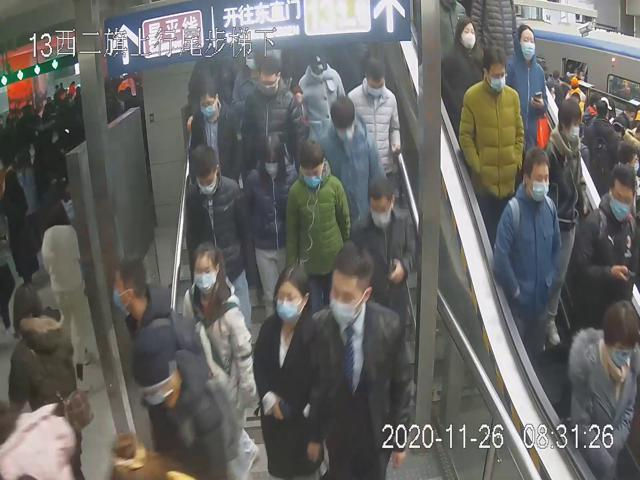person: (311, 242, 415, 480), (181, 238, 262, 473), (251, 264, 327, 478), (490, 147, 565, 349), (181, 141, 256, 335), (458, 44, 527, 228), (349, 173, 418, 337), (285, 138, 354, 289), (244, 132, 298, 319), (316, 95, 386, 238), (348, 53, 408, 190), (501, 20, 552, 166), (187, 71, 243, 185), (242, 54, 299, 162), (440, 15, 490, 125)
